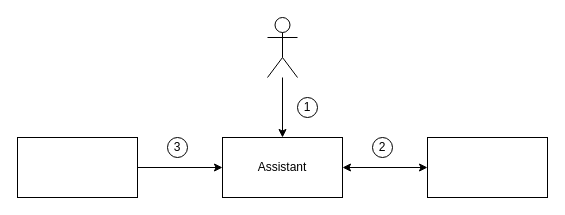
Image size: 565x215. Some labels were removed from this diagram. Here are the shapes that lost their labels. From the top down, the centre of each, then its label:
(x=77, y=167): Data API
(x=487, y=167): OpenAI API
